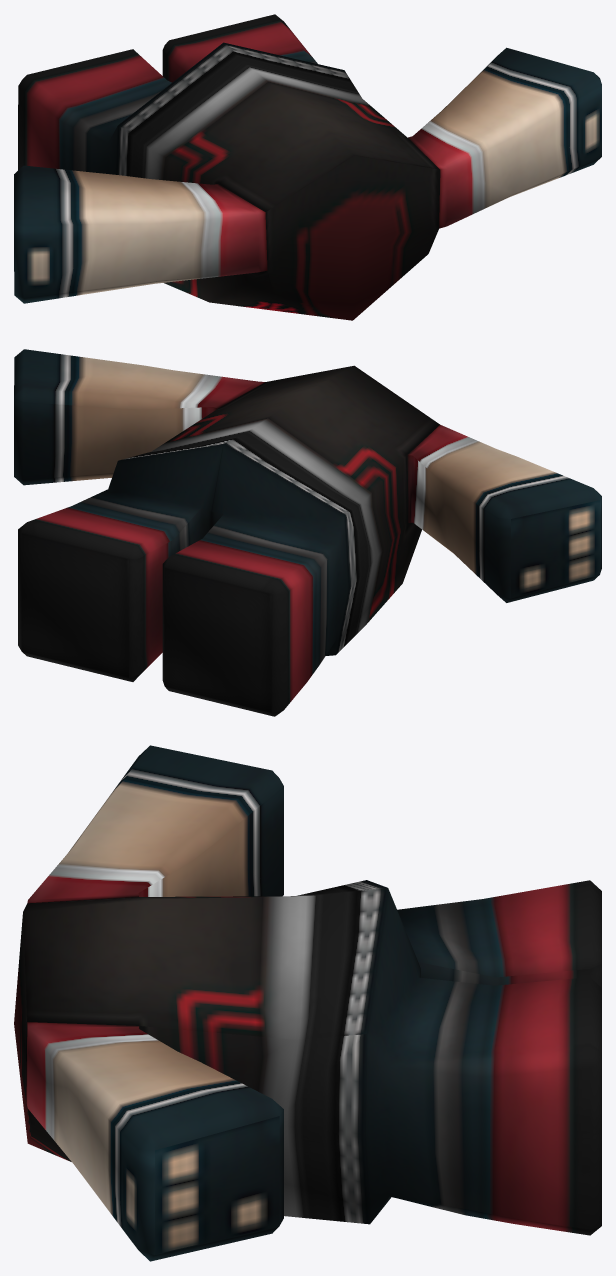
The model's file is Avatar_Mike_H_Body_4_7f98e0bf__Avatar_Mike_L_C_8ac8ec79_c1f257.obj.
3 renders of one model, top to bottom at view 1: azimuth 30°, elevation 25°; view 2: azimuth 150°, elevation 25°; view 3: azimuth 270°, elevation 25°, orthographic. The views are drawn at different scales.
Bounding box in the file's own units: 1.41 × 0.504 × 0.882.
1 material, 1 textured.
